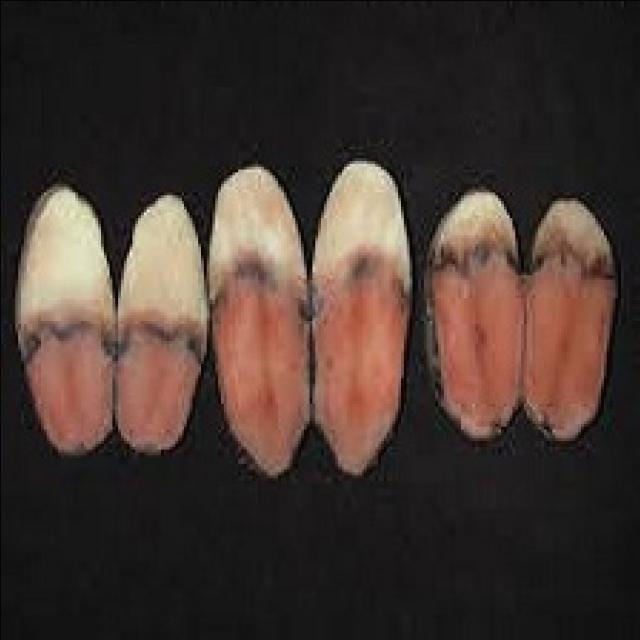pink_rot: (204, 148, 418, 480), (420, 176, 640, 478), (9, 167, 213, 470)
